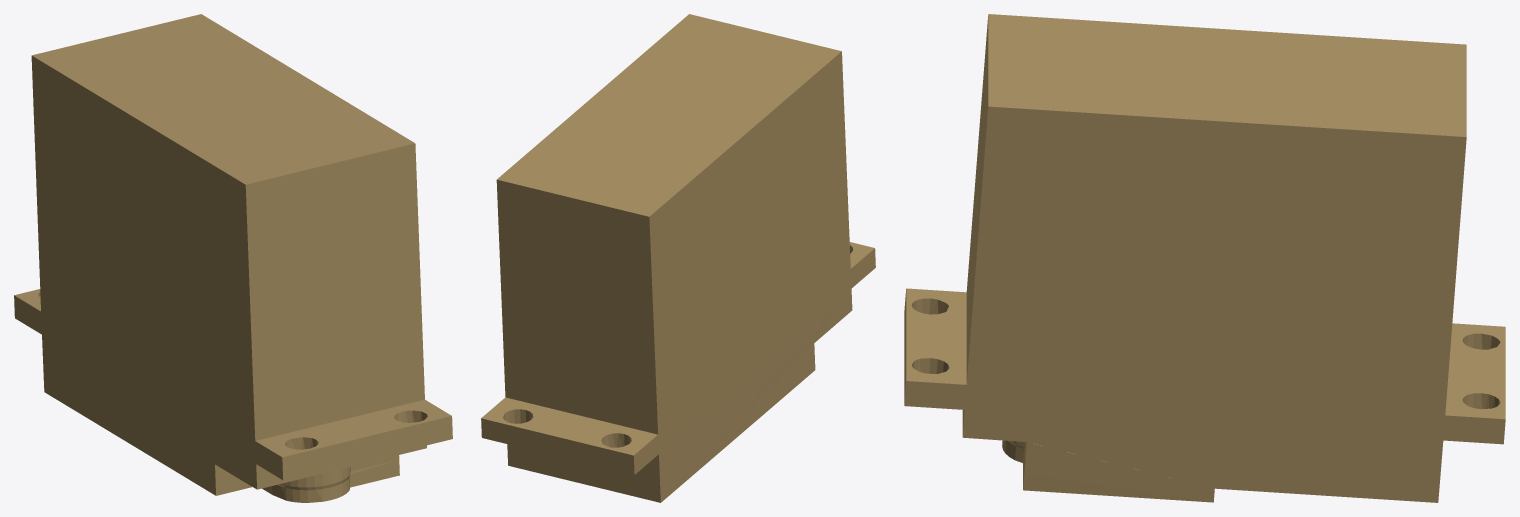
The model's file is Texture.218.dae.light.glb.
3 views of the same model, side by side, from view 1: azimuth 30°, elevation 25°; view 2: azimuth 150°, elevation 25°; view 3: azimuth 270°, elevation 25° (orthographic). The views are drawn at different scales.
Bounding box in the file's own units: 0.2829 × 0.5644 × 0.7761.
